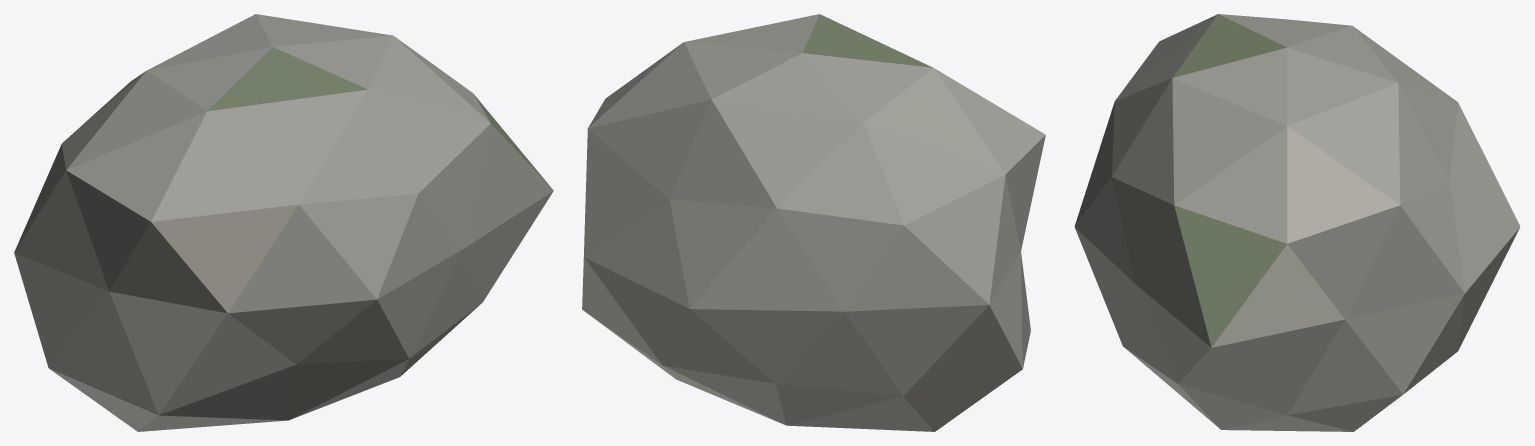
The model's file is medium_rock_a.glb.
3 views of the same model, side by side, from view 1: azimuth 30°, elevation 25°; view 2: azimuth 150°, elevation 25°; view 3: azimuth 270°, elevation 25° (orthographic). The views are drawn at different scales.
Parts seen in each view (by area): view 1: medium_rock_a LOD0; view 2: medium_rock_a LOD0; view 3: medium_rock_a LOD0.
Part boxes in pixels (<box>): medium_rock_a LOD0: <box>14,14,553,431</box>; medium_rock_a LOD0: <box>582,14,1045,431</box>; medium_rock_a LOD0: <box>1074,14,1520,431</box>.
Size of what is drawn, in the model's own units: 2.93 by 2.22 by 2.38.
